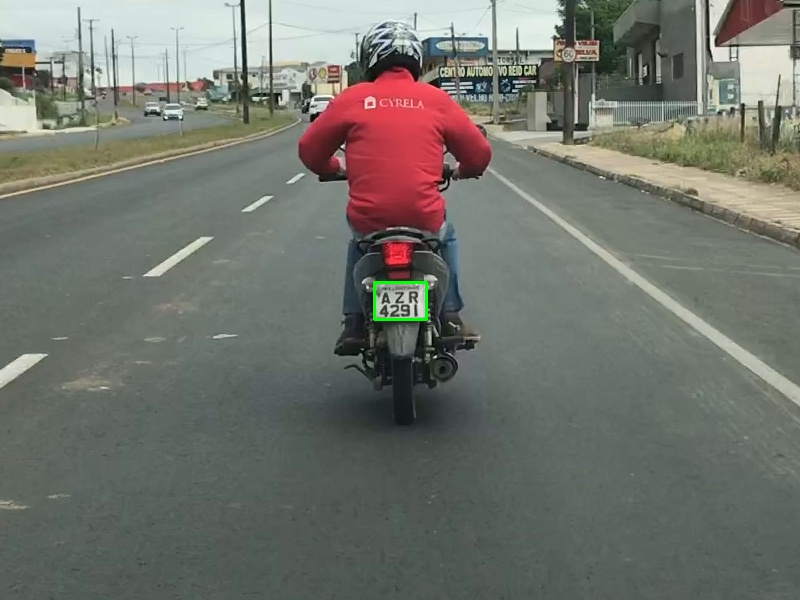placa: (374, 282, 426, 319)
